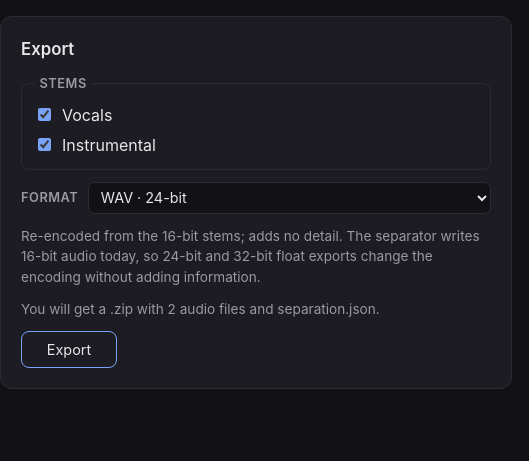
ExportPanel errors › explains a missing job and re-enables the button
Step 1. Click the button "Export" → (69, 350), box x1=21 y1=331 x2=117 y2=368
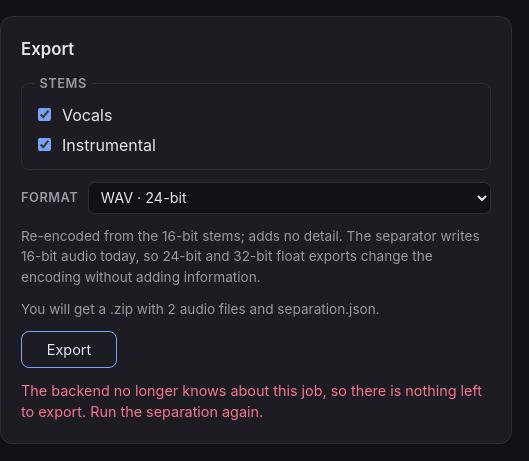
Result: the message shows "no longer knows about this job" at x1=21 y1=382 x2=482 y2=420
Result: the message shows "run the separation again" at x1=21 y1=382 x2=482 y2=420
